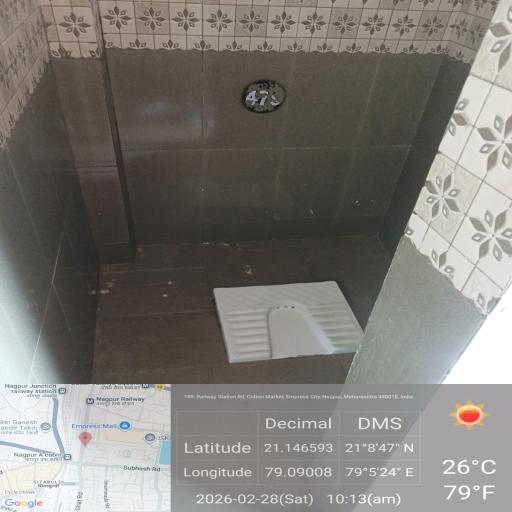clean_floor: (13, 6, 494, 225)
clean_urinal: (94, 234, 391, 453)
